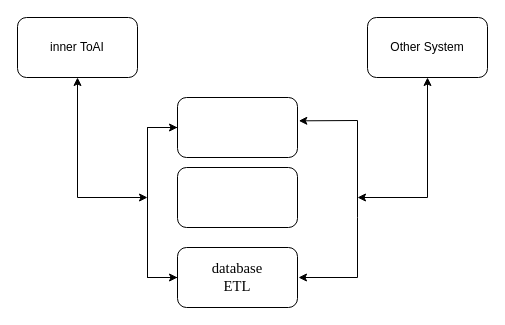
Some shapes in this 505 by 325 pixel diagram are drawn without their labels. Here are the shapes that lost their labels. From the top down, the centre of each, then its label:
At point (237, 127): "API".
At point (237, 197): "MQTT topics".
